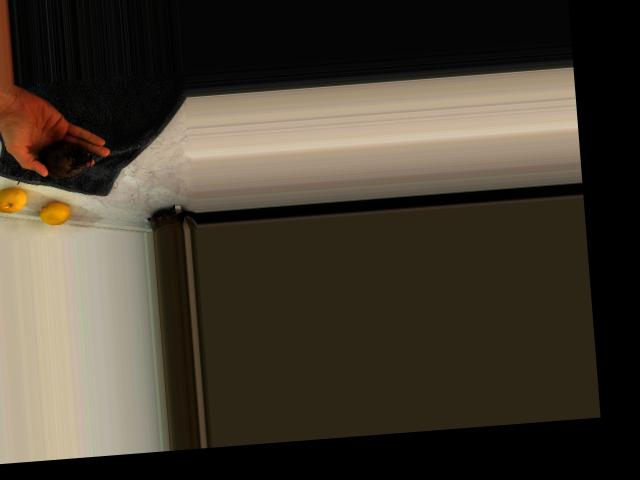beet: (14, 139, 93, 184)
